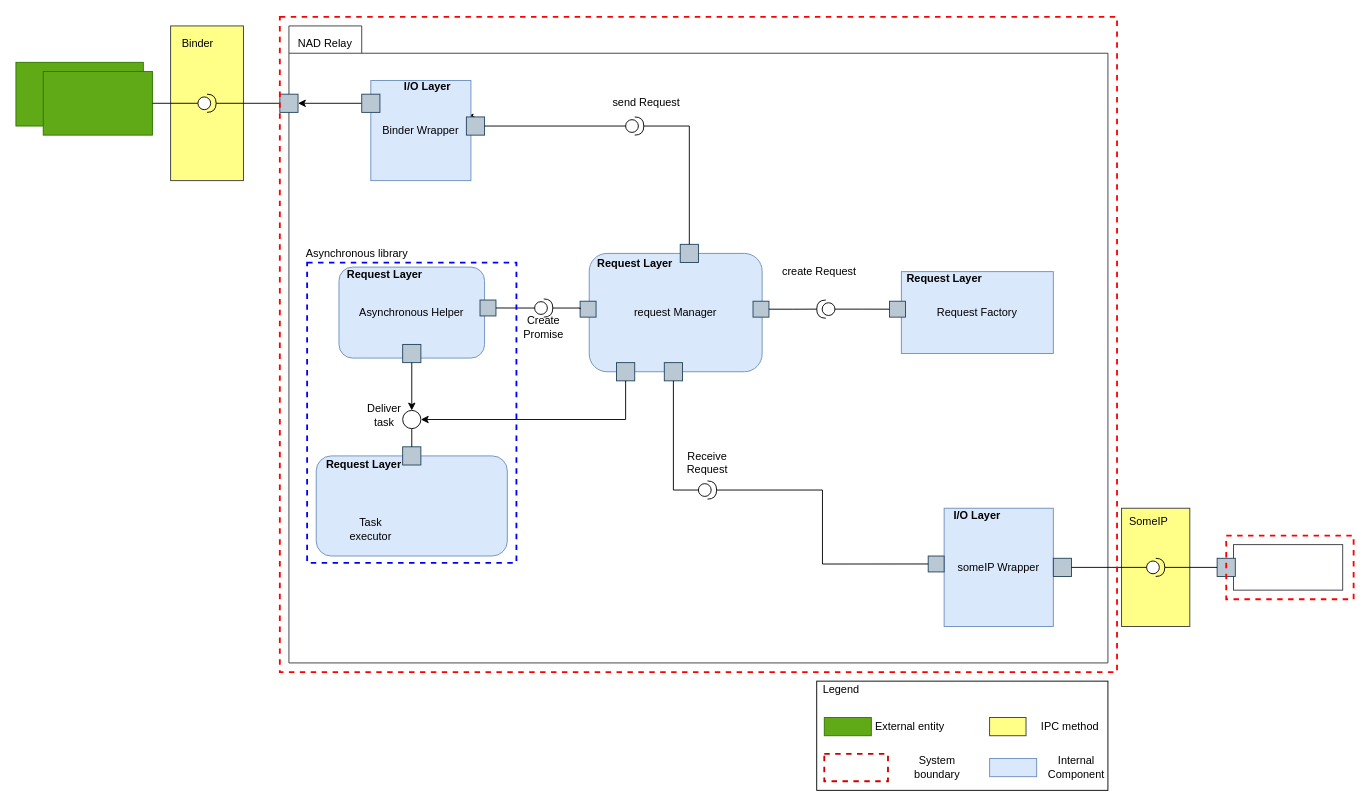
This 1370x806 diagram has some shape labels left out. The centre of each missing label's shape, as x and y in pixels:
"NAD Manager" goes at pixel 1288 567.
"NAD services" goes at pixel 97 103.
